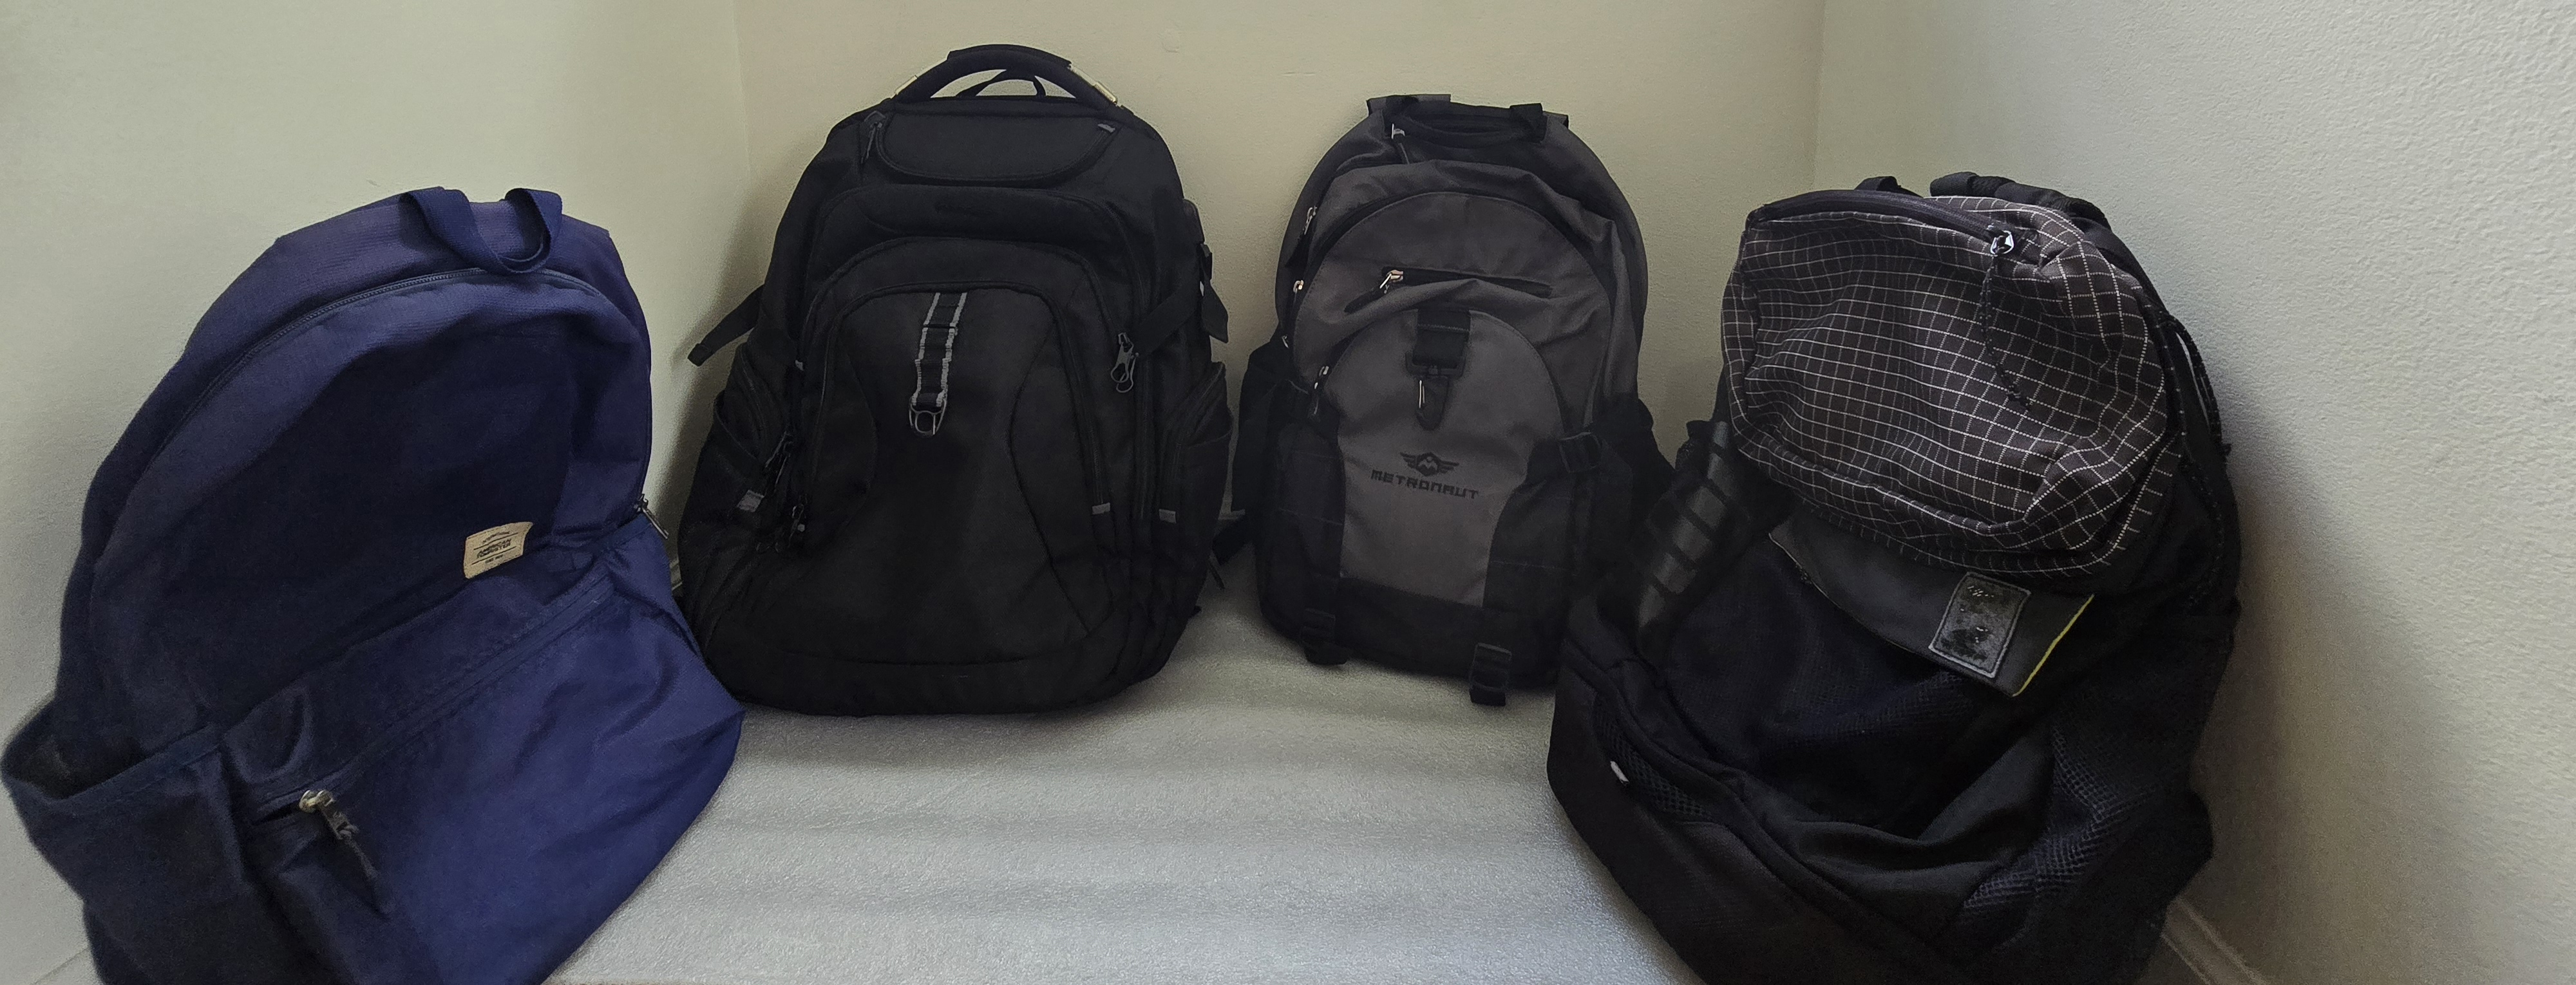bag: (28, 181, 820, 985), (1625, 97, 2229, 960), (738, 51, 1234, 740), (1262, 46, 1651, 740)
